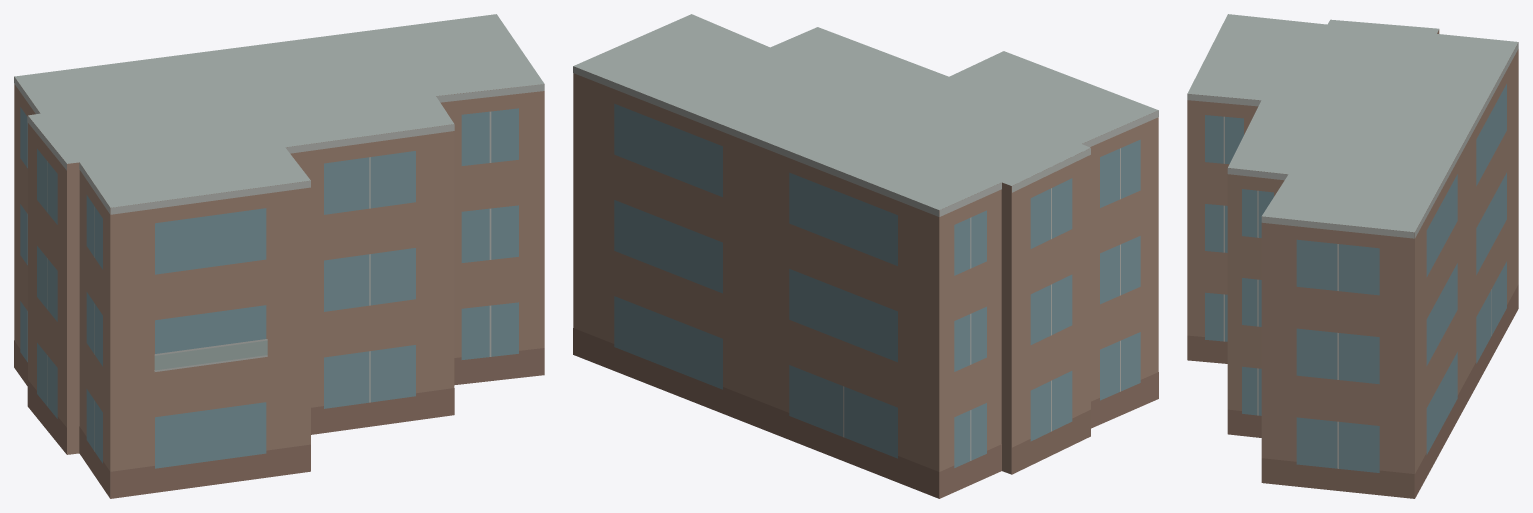
File: survey-upis-33037350.glb
3 views of the same model, side by side, from view 1: azimuth 30°, elevation 25°; view 2: azimuth 150°, elevation 25°; view 3: azimuth 270°, elevation 25° (orthographic). The views are drawn at different scales.
Parts seen in each view (by area): view 1: survey-upis-33037350.tmp; view 2: survey-upis-33037350.tmp; view 3: survey-upis-33037350.tmp.
Boxes of the visible parts, x1,y1,x2,y2 form: survey-upis-33037350.tmp: (14, 14, 544, 498); survey-upis-33037350.tmp: (573, 14, 1158, 498); survey-upis-33037350.tmp: (1187, 14, 1518, 498).
Bounding box in the file's own units: 17.92 × 10.2 × 11.5.
